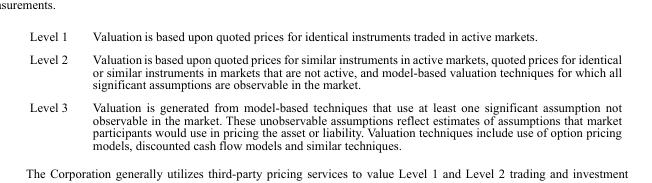table: (28, 29, 620, 151)
table column: (79, 29, 620, 151), (28, 29, 79, 151)
table row: (28, 95, 620, 151), (28, 47, 620, 95), (28, 29, 620, 47)
